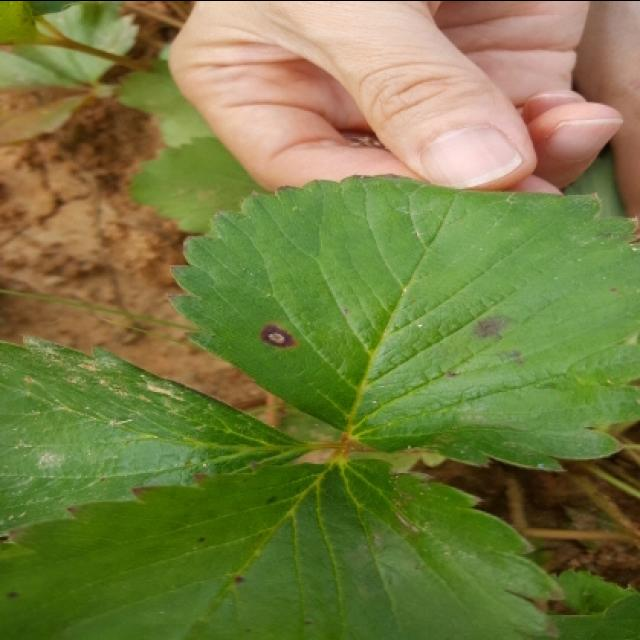Leaf Spot: (165, 170, 638, 471), (0, 453, 568, 638)
